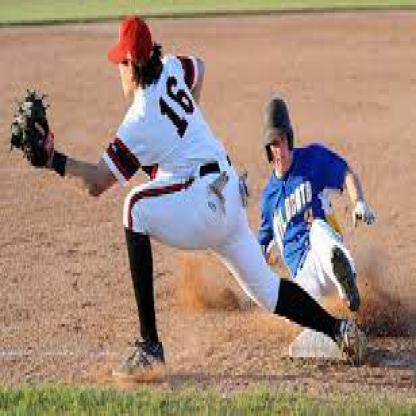Fall_Down: (218, 95, 379, 332)
